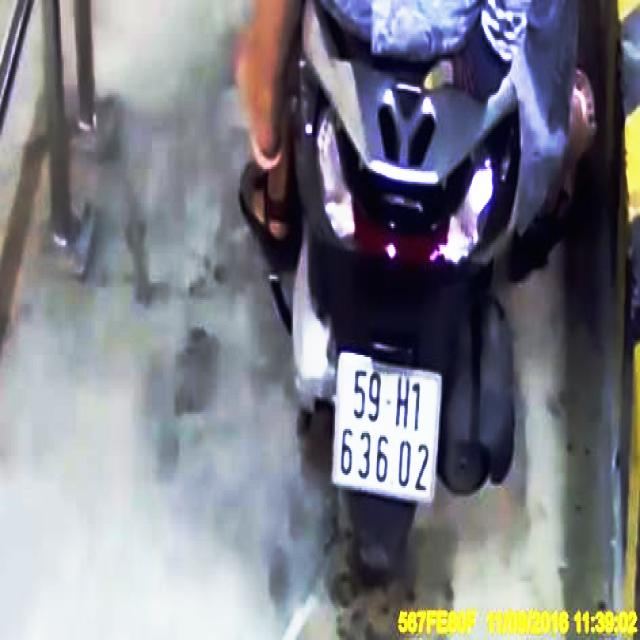license_plate: (331, 350, 446, 509)
